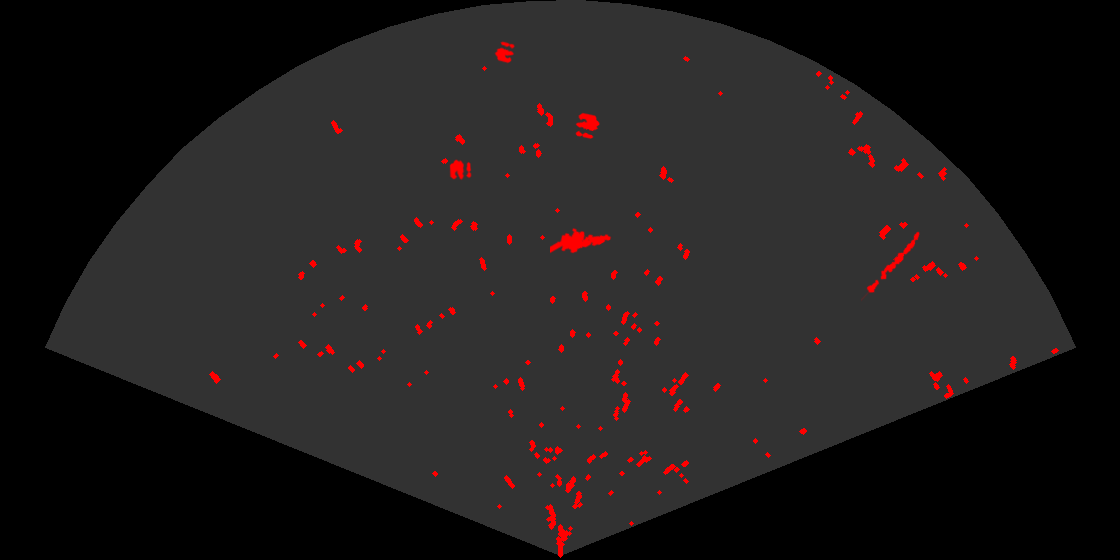ball: (574, 111, 601, 140), (448, 158, 473, 182), (493, 40, 516, 65)
chain: (861, 230, 921, 303)
frogman: (550, 226, 613, 255)
